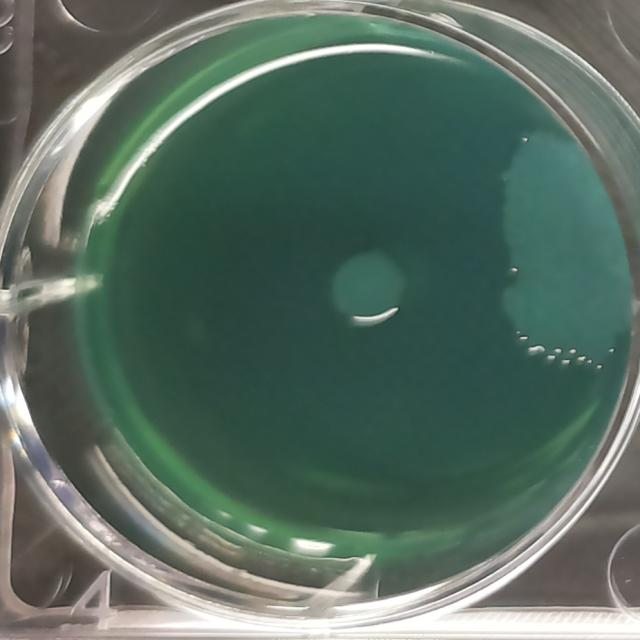vibrio: (480, 123, 634, 368), (314, 246, 412, 338)
